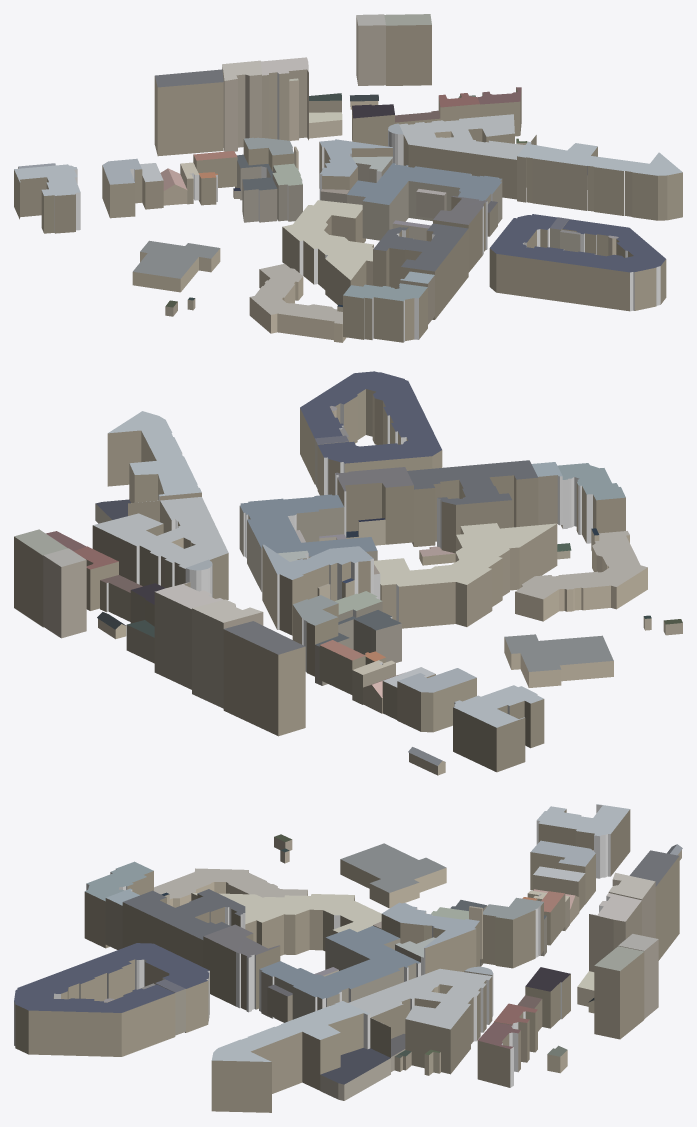
3 views of the same model, one above another, from view 1: azimuth 30°, elevation 25°; view 2: azimuth 150°, elevation 25°; view 3: azimuth 270°, elevation 25° (orthographic). The views are drawn at different scales.
Parts seen in each view (by area): view 1: tuile; view 2: tuile; view 3: tuile.
Boxes of the visible parts, bbox=[...] form: tuile: bbox=[14, 14, 682, 342]; tuile: bbox=[14, 371, 682, 775]; tuile: bbox=[14, 804, 682, 1112].
Size of the model in its own units: 275 by 51.99 by 284.
